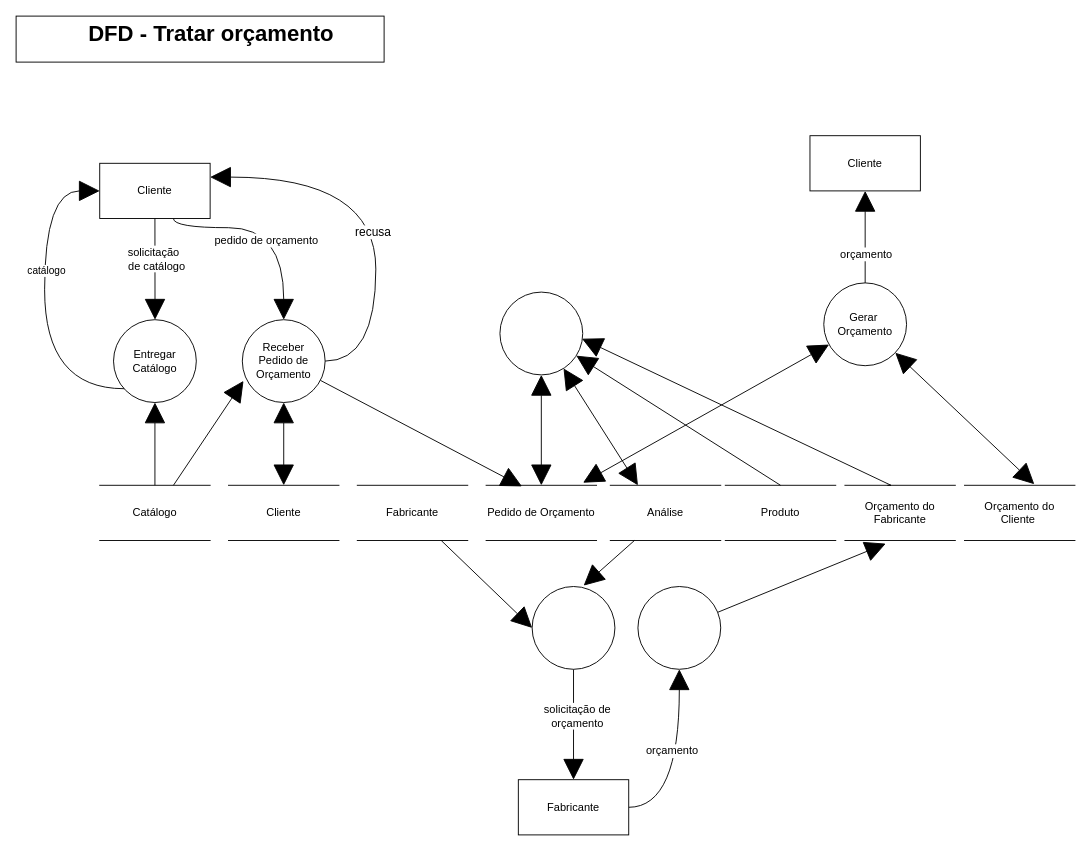
This 1091x851 diagram has some shape labels left out. The centre of each missing label's shape, as x and y in pixels:
"Analisar Pedido de Orçamento" goes at (x=541, y=333).
"Receber Orçamento" goes at (x=679, y=627).
"Solicitar Cotação de Formas" goes at (x=573, y=627).
